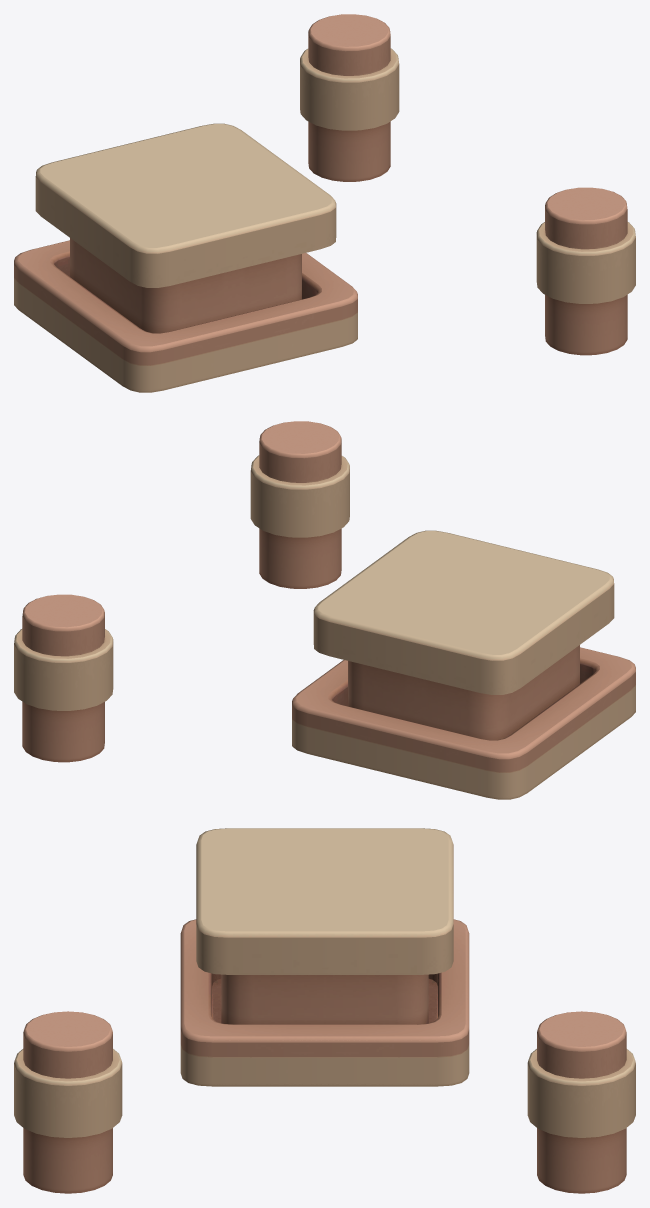
Rendered from Props.fbx.
The picture shows the model from 3 angles, top to bottom: view 1: azimuth 30°, elevation 25°; view 2: azimuth 150°, elevation 25°; view 3: azimuth 270°, elevation 25°; orthographic projection. The views are drawn at different scales.
Parts seen in each view (by area): view 1: Box, Cylinder-2, Cylinder-2 (1); view 2: Box, Cylinder-2 (1), Cylinder-2; view 3: Box, Cylinder-2, Cylinder-2 (1).
Boxes of the visible parts, <box> form: Box: <box>14,123,357,392</box>; Cylinder-2: <box>536,187,635,355</box>; Cylinder-2 (1): <box>300,14,399,181</box>; Box: <box>292,530,635,799</box>; Cylinder-2 (1): <box>14,594,113,762</box>; Cylinder-2: <box>250,421,349,588</box>; Box: <box>180,828,469,1086</box>; Cylinder-2: <box>14,1011,122,1193</box>; Cylinder-2 (1): <box>527,1011,635,1193</box>.
Size of the model in its own units: 17.19 by 5 by 19.38.
